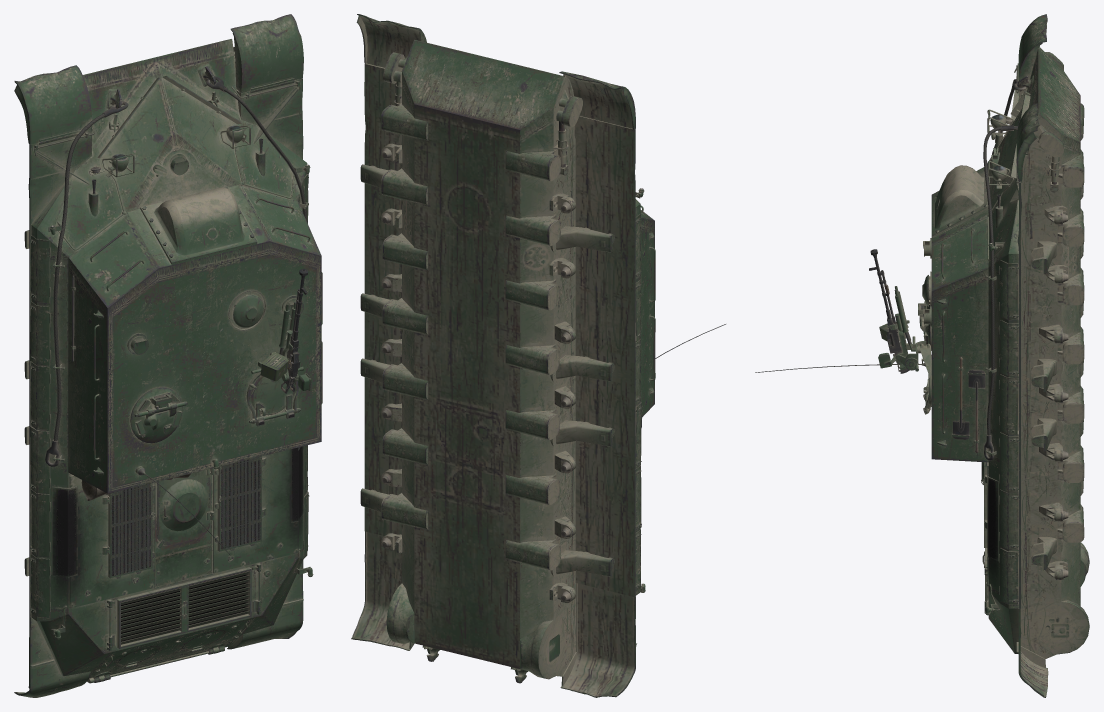
File: Hull.glb
3 renders of one model, left to right at view 1: azimuth 30°, elevation 25°; view 2: azimuth 150°, elevation 25°; view 3: azimuth 270°, elevation 25°, orthographic. The views are drawn at different scales.
Parts seen in each view (by area): view 1: set_0_group_0; view 2: set_0_group_0; view 3: set_0_group_0.
Boxes of the visible parts, <box> form: set_0_group_0: <box>14,14,322,697</box>; set_0_group_0: <box>351,14,725,697</box>; set_0_group_0: <box>755,14,1089,697</box>.
Size of the model in its own units: 3.46 by 7.53 by 4.01.
Materials: 1 (1 with a texture image).
